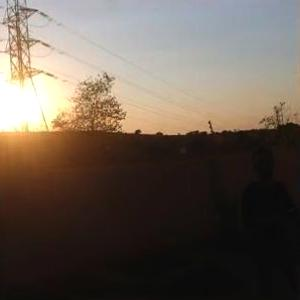follow: (232, 144, 299, 299)
